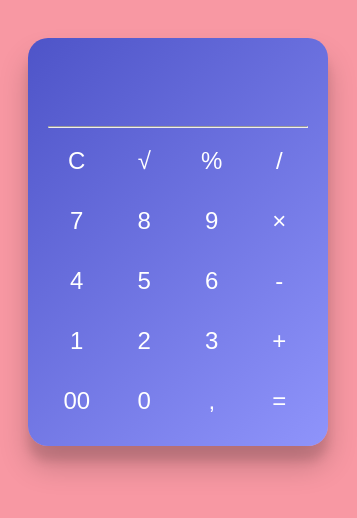
Test: Calculator › displays error on division by zero
Click the button "8" at (144, 221), box [116,196,173,246]
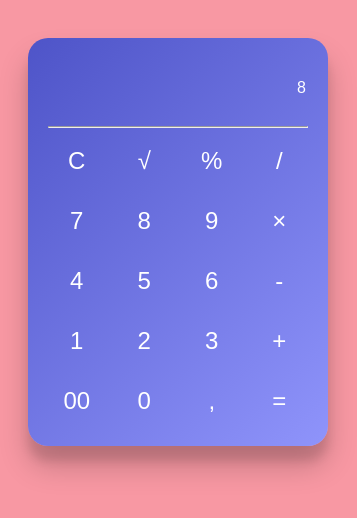
Click the button "/" at (279, 161), box [250,136,308,186]
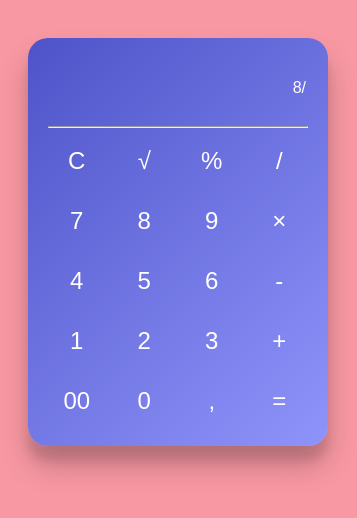
Click the button "0" at (144, 401), box [116,376,173,426]
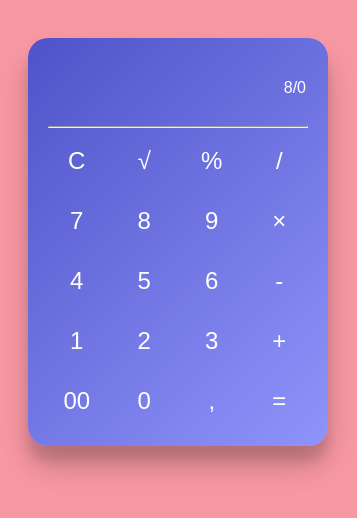
Click the button "=" at (279, 401), box [250,376,308,426]
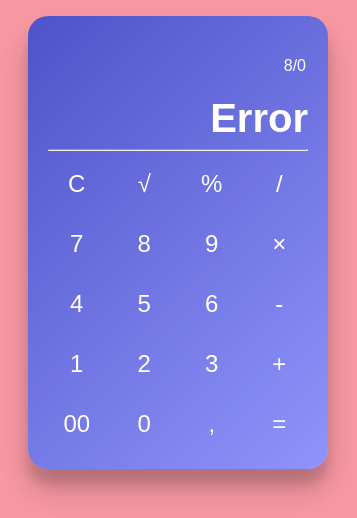
expect the text with test id "result" reads "Error": met, box [210,96,308,140]
